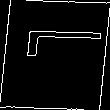L_E: (8, 38, 102, 72)
